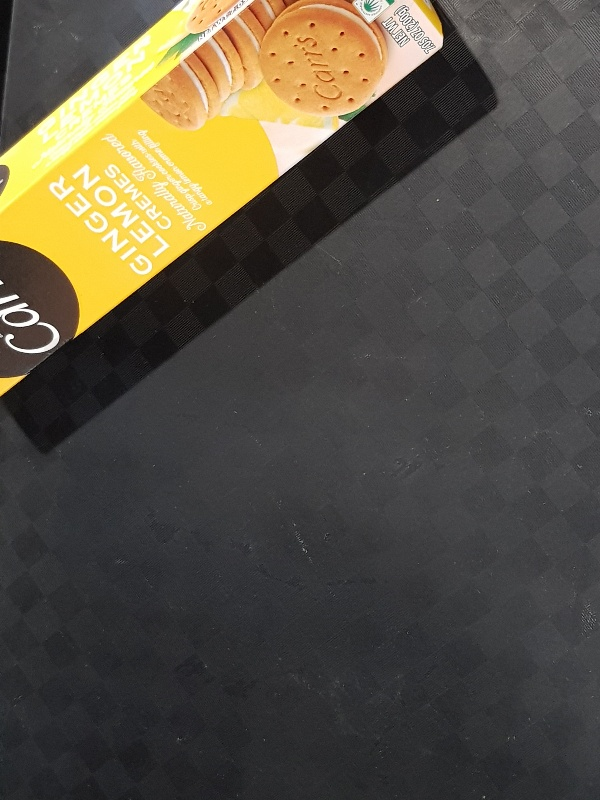Carr's Ginger Lemon Cremes: (1, 1, 442, 399)
